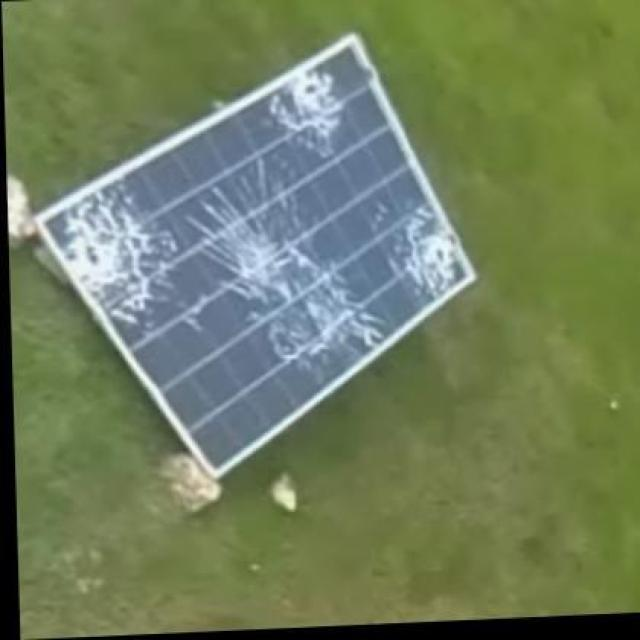cracked: (42, 33, 484, 464)
